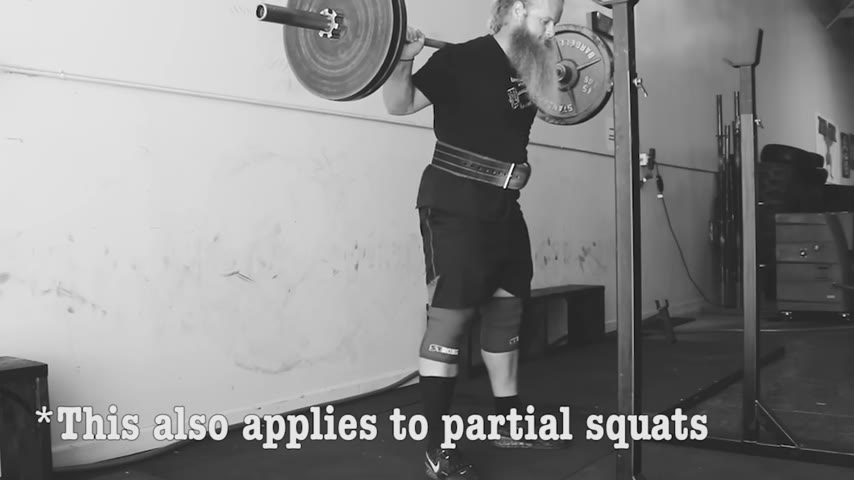barbell_plate_side: (253, 0, 347, 135), (544, 0, 626, 134)
